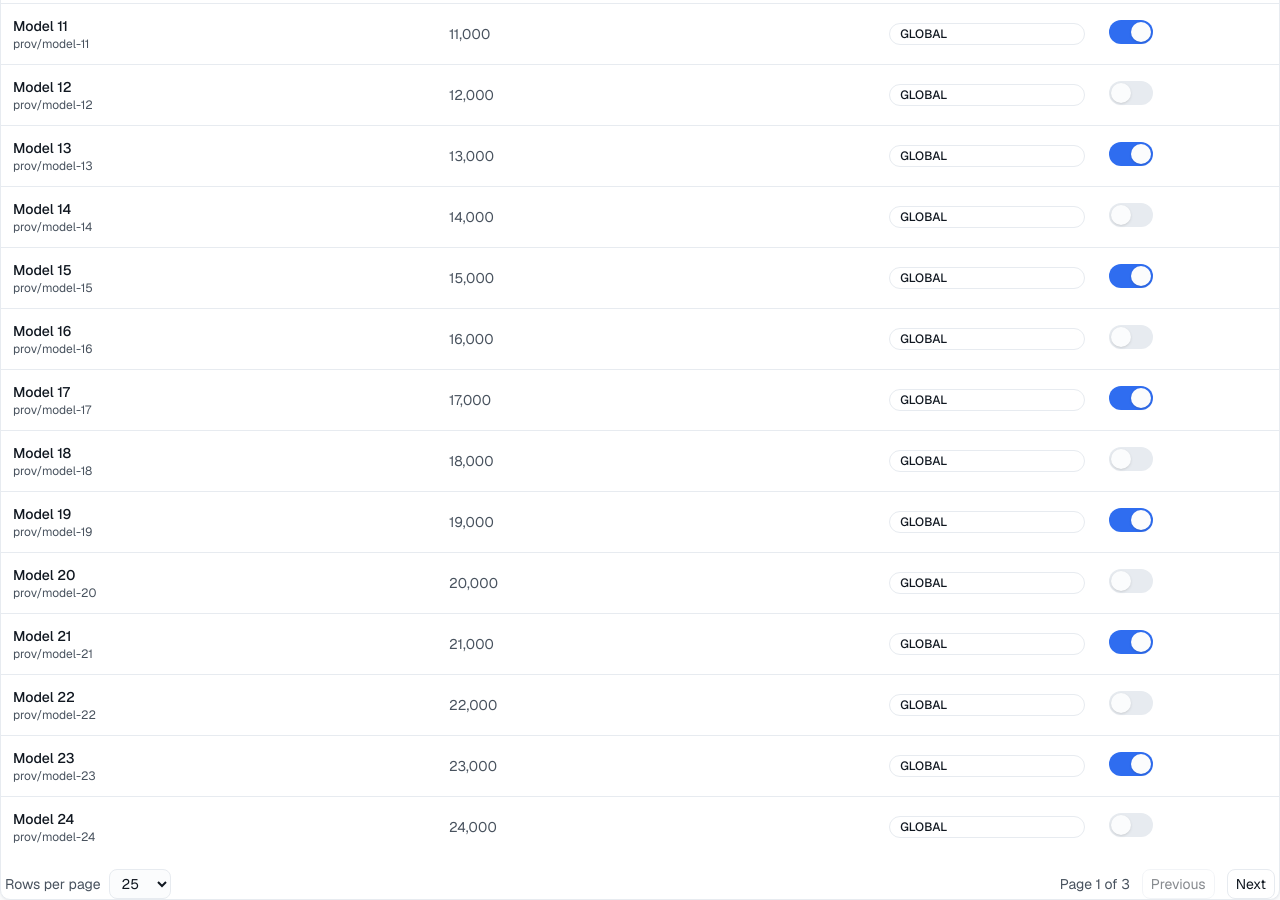
Test: ModelsPage — pagination › test_pager_bounds: Previous disabled on first page, Next disabled on last
(page scrolled)
Check: the button "Previous" is disabled, box [1142,868,1215,898]
Click the button "Next" at point(1251, 884), box [1227,868,1275,898]
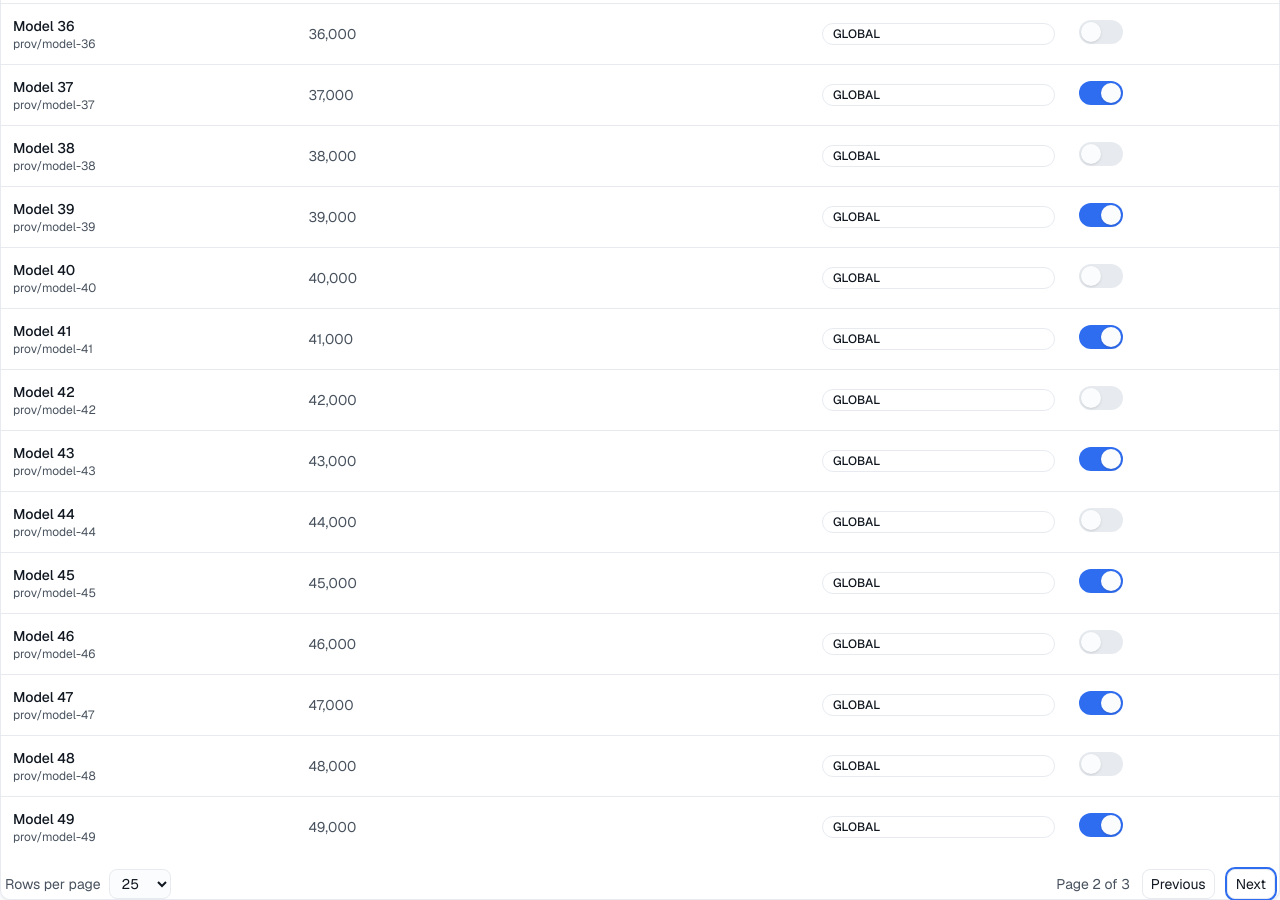
Click the button "Next" at point(1251, 884), box [1227,868,1275,898]
(page scrolled)
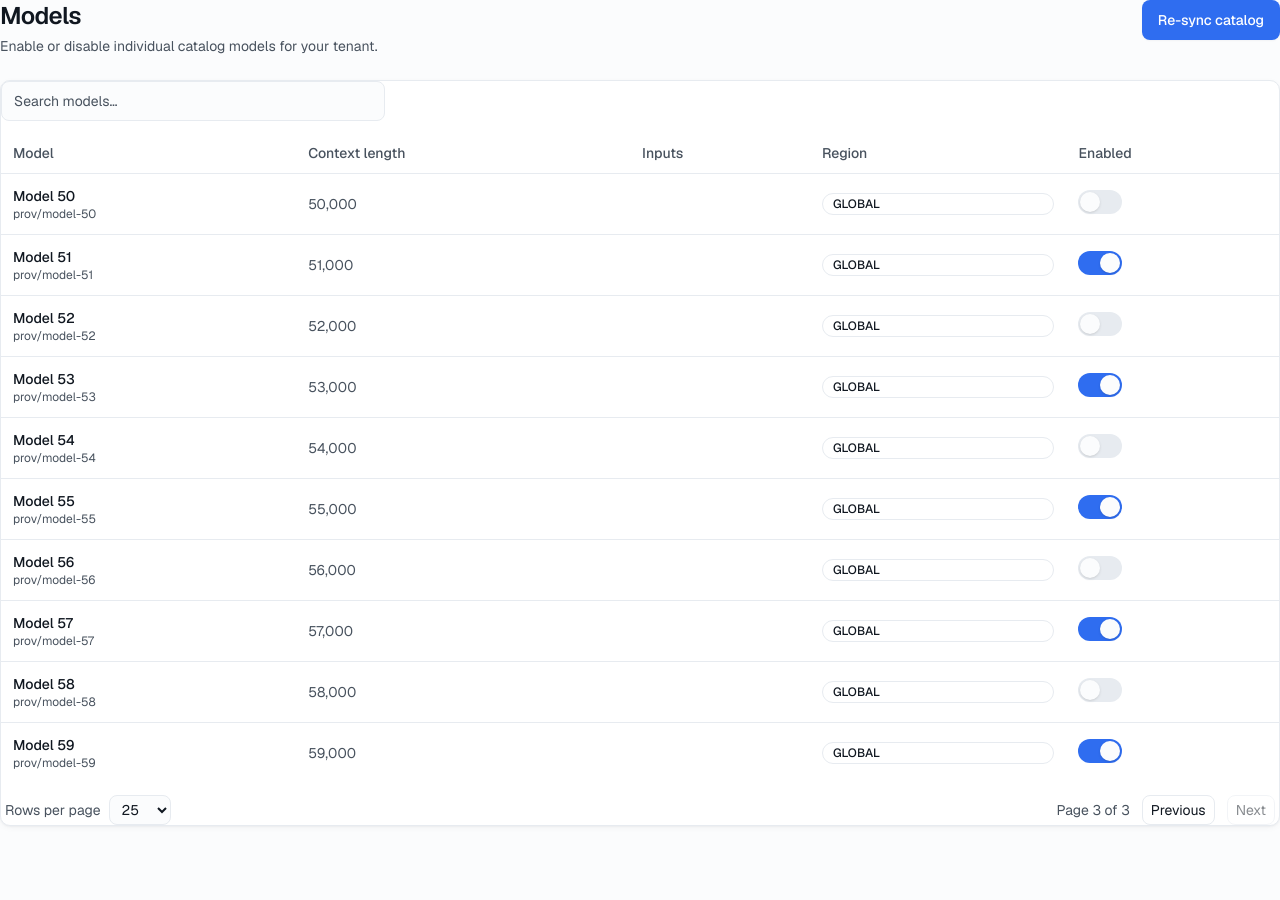
Check: the text "Page 3 of 3" is shown, box [1056,800,1130,820]
Check: the button "Next" is disabled, box [1227,794,1275,824]
